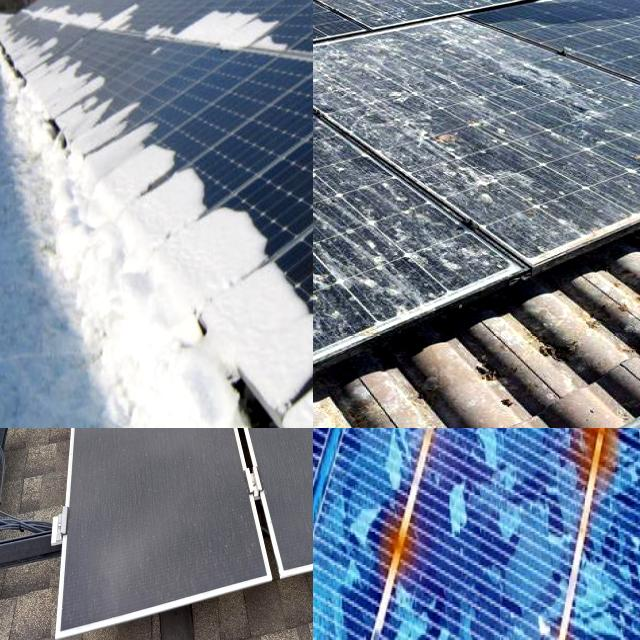bird: (313, 228, 414, 300), (328, 85, 449, 142), (313, 248, 368, 358), (534, 81, 600, 131), (313, 114, 358, 169)
dust: (81, 428, 239, 589), (98, 428, 300, 480), (252, 428, 313, 542), (0, 428, 73, 487), (220, 428, 313, 461), (90, 428, 209, 453)
panel: (174, 294, 290, 412), (15, 82, 96, 230), (186, 154, 272, 252), (106, 100, 178, 198), (254, 252, 313, 362), (189, 1, 288, 62), (54, 42, 100, 104), (0, 18, 39, 70), (90, 1, 144, 38), (139, 10, 188, 46), (37, 0, 85, 28)
shadow: (366, 463, 424, 616), (565, 428, 634, 497), (534, 579, 584, 640)
